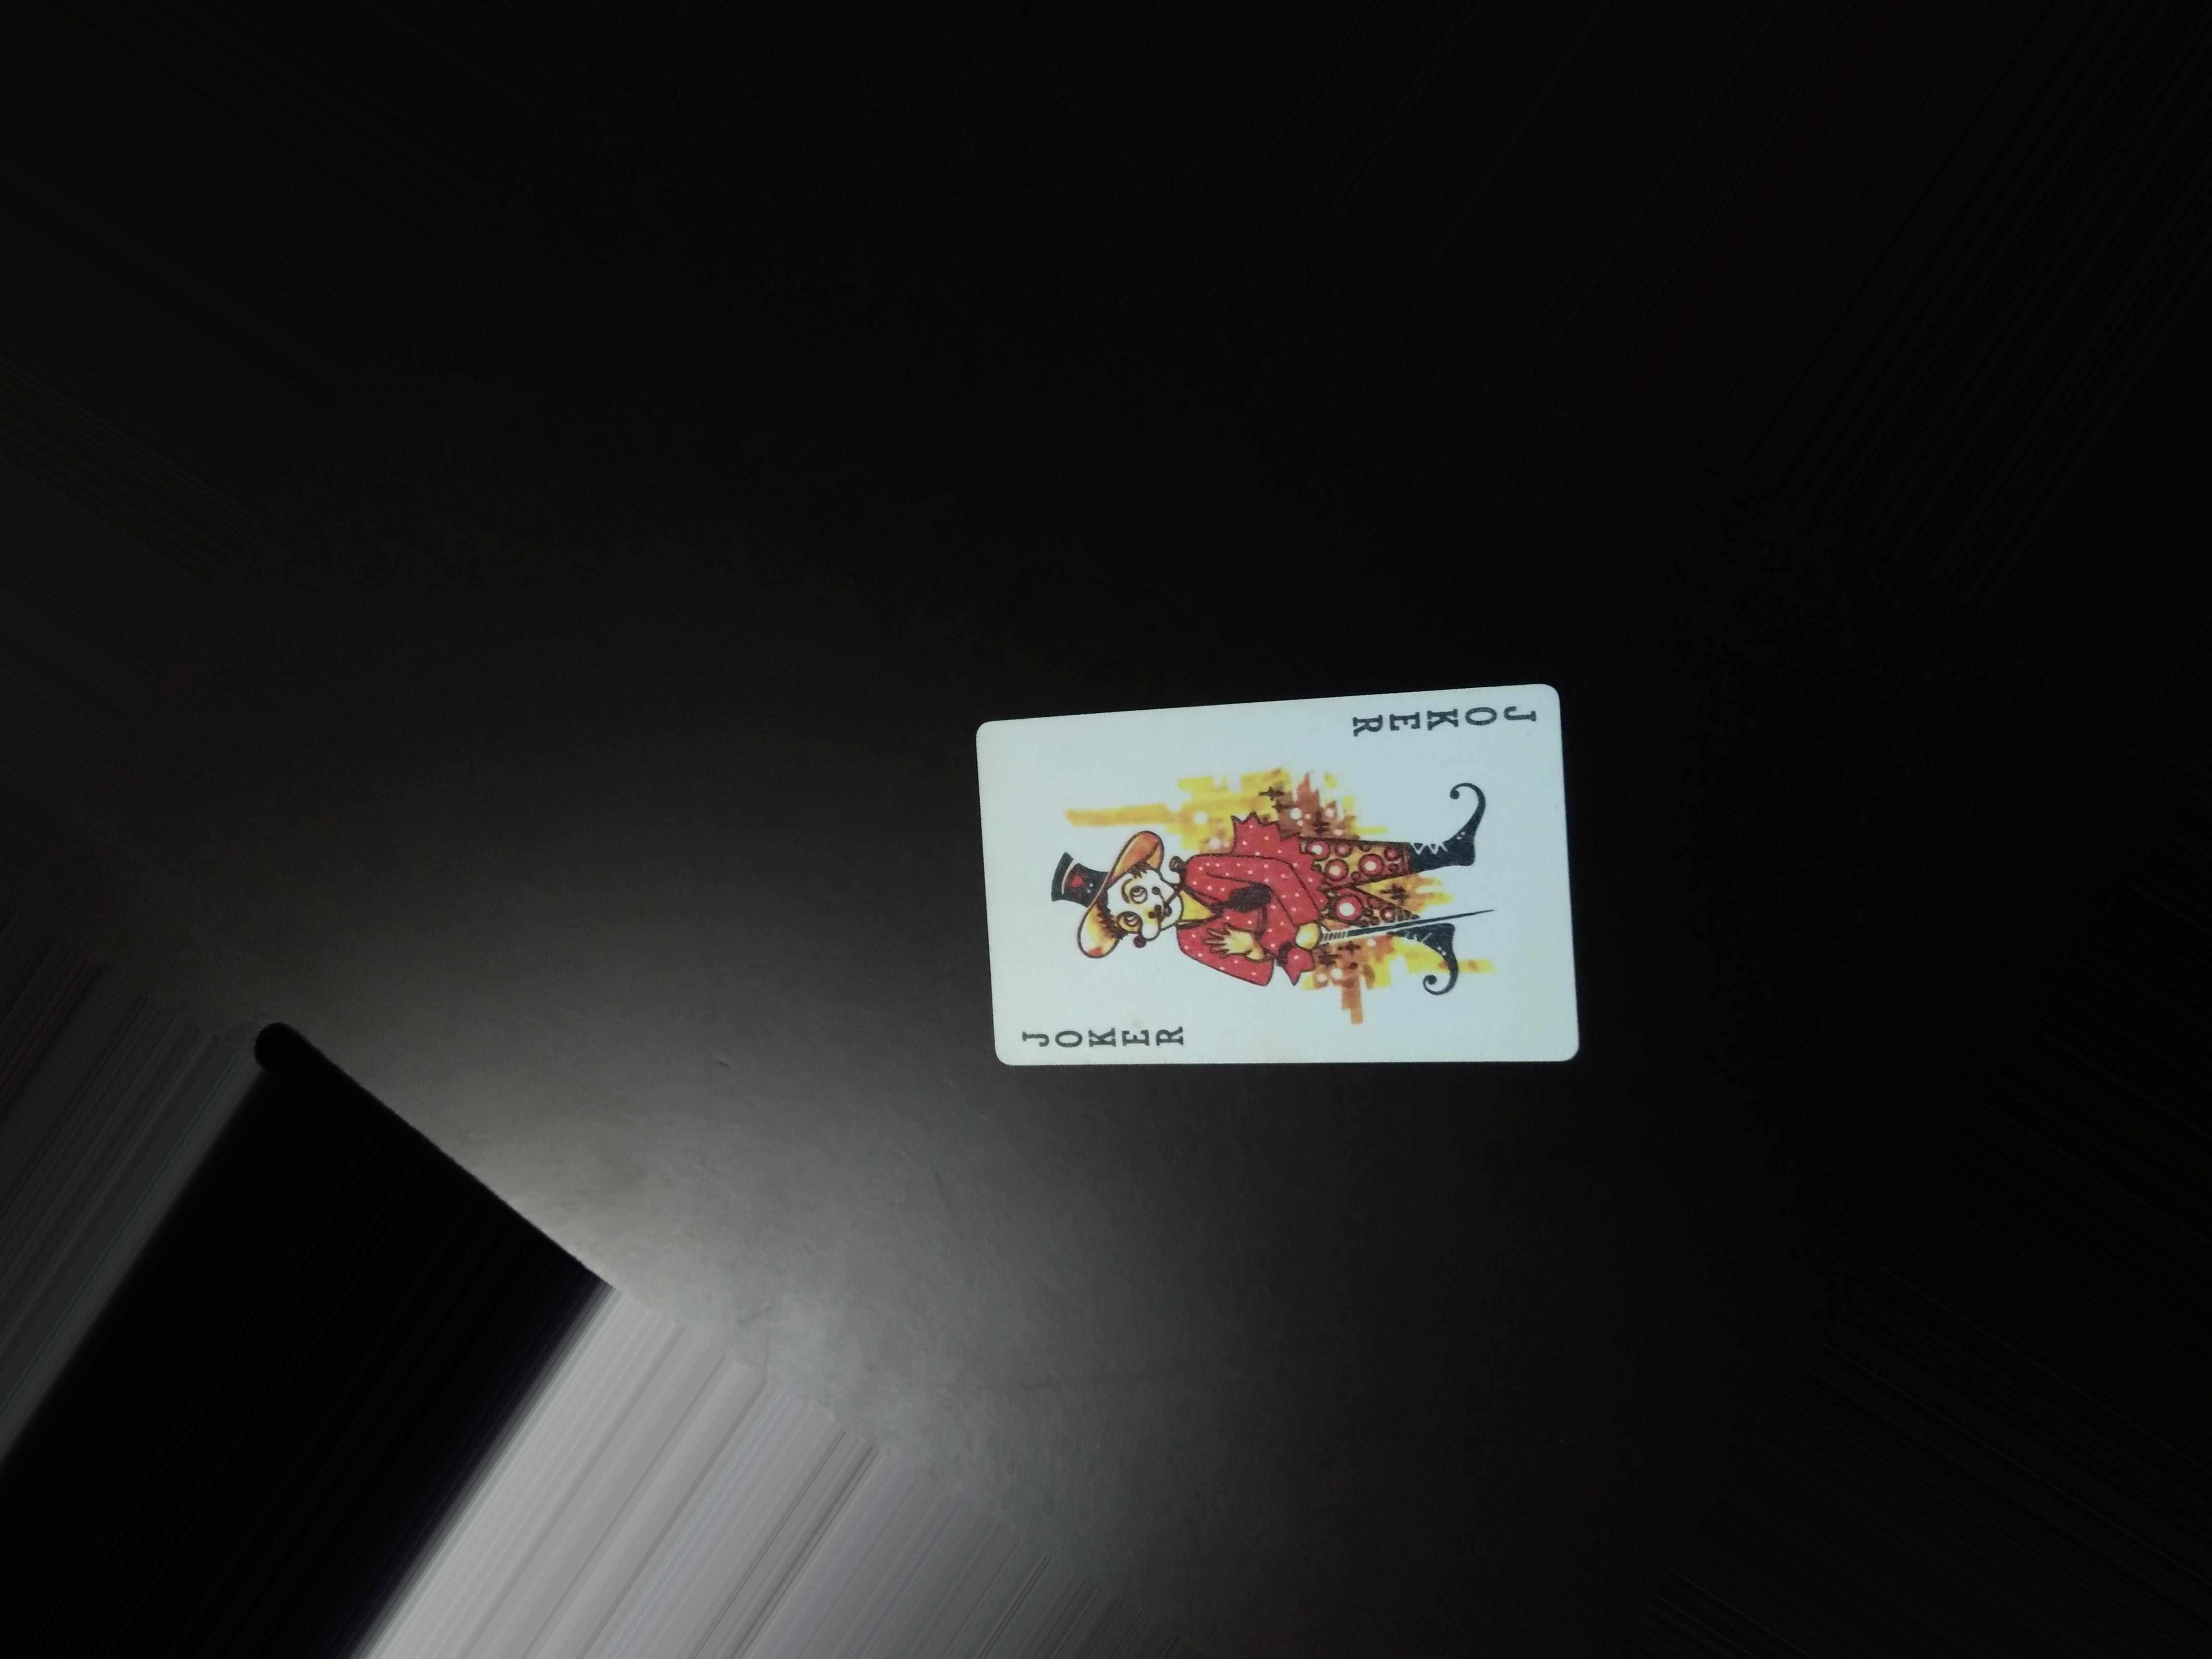JOKER: (995, 1007, 1219, 1063)
